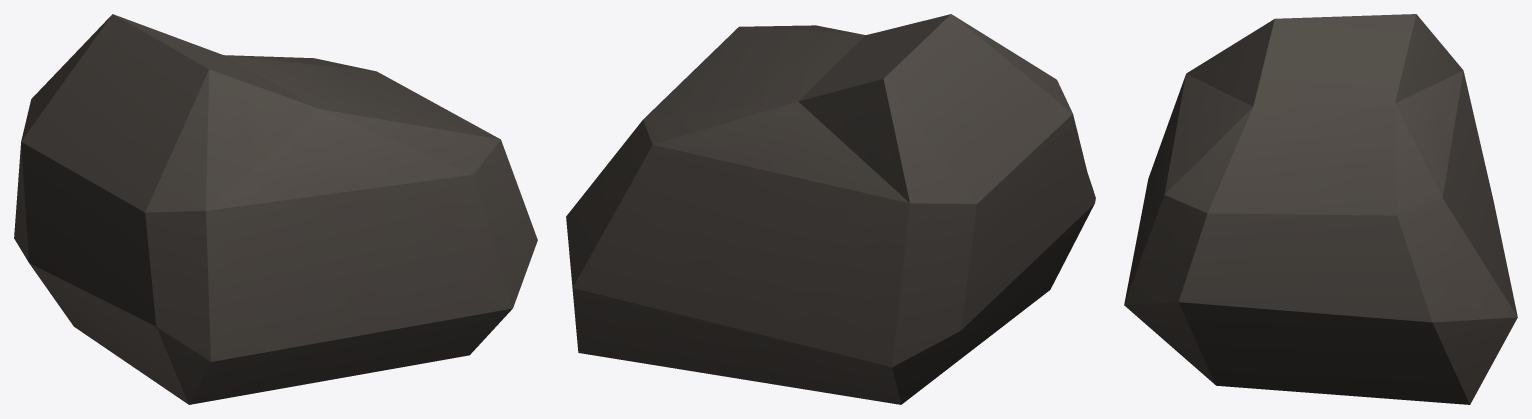
File: Stone_Squarish_C.fbx
The picture shows the model from 3 angles, left to right: view 1: azimuth 30°, elevation 25°; view 2: azimuth 150°, elevation 25°; view 3: azimuth 270°, elevation 25°; orthographic projection. The views are drawn at different scales.
Parts seen in each view (by area): view 1: Stone_Squarish_C; view 2: Stone_Squarish_C; view 3: Stone_Squarish_C.
Part boxes in pixels (left/top/right/bottom): Stone_Squarish_C: left=14, top=14, right=537, bottom=404; Stone_Squarish_C: left=566, top=14, right=1095, bottom=404; Stone_Squarish_C: left=1124, top=14, right=1517, bottom=404.
Size of the model in its own units: 24.85 by 18.95 by 24.46.
